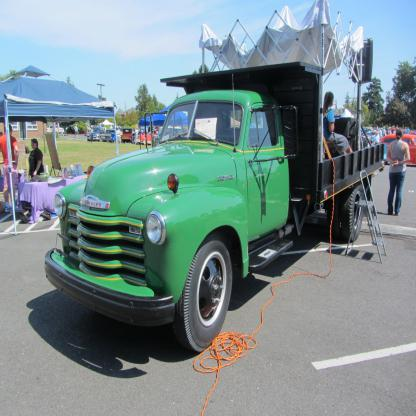Truck: (33, 71, 405, 353), (119, 123, 135, 145)
